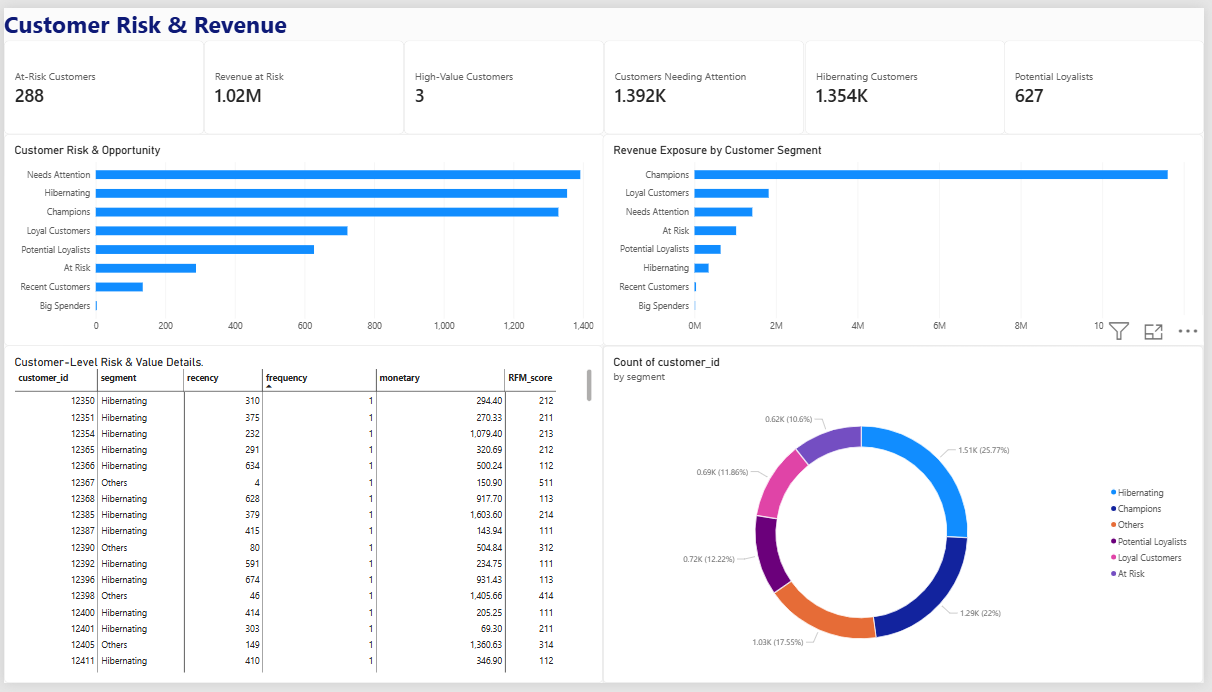

What the dashboard file says about the page in this screenshot:
{"tool":"powerbi","page":{"name":"Customer Risk & Revenue","canvas":[1920,1080],"ordinal":2},"visuals":[{"type":"textbox","box":[0,0,1919.3,52.2],"z":0},{"type":"cardVisual","fields":{"Data":["Count(ecommerce_analytics rfm_customer_dashboard.customer_id)"]},"box":[0,52.2,320,150],"z":1000},{"type":"cardVisual","fields":{"Data":["Sum(ecommerce_analytics rfm_customer_dashboard.monetary)"]},"box":[320.3,52.2,320,150],"z":2000},{"type":"cardVisual","fields":{"Data":["Count(ecommerce_analytics rfm_customer_dashboard.customer_id)"]},"box":[640.5,52.2,320,150],"z":3000},{"type":"cardVisual","fields":{"Data":["Count(ecommerce_analytics rfm_customer_dashboard.customer_id)"]},"box":[960.8,52.2,320,150],"z":4000},{"type":"cardVisual","fields":{"Data":["Count(ecommerce_analytics rfm_customer_dashboard.customer_id)"]},"box":[1281,52.2,320,150],"z":5000},{"type":"cardVisual","fields":{"Data":["Count(ecommerce_analytics rfm_customer_dashboard.customer_id)"]},"box":[1599,52.2,320,150],"z":6000},{"type":"clusteredBarChart","title":"Customer Risk & Opportunity","fields":{"Category":["ecommerce_analytics rfm_customer_dashboard.customer_segment"],"Y":["Count(ecommerce_analytics rfm_customer_dashboard.customer_id)"]},"box":[0,202.1,960.8,338.4],"z":7000},{"type":"clusteredBarChart","title":"Revenue Exposure by Customer Segment","fields":{"Category":["ecommerce_analytics rfm_customer_dashboard.customer_segment"],"Y":["Sum(cleaned_sales.revenue)"]},"box":[958.5,202.1,961,338],"z":8000},{"type":"tableEx","title":"Customer-Level Risk & Value Details.","fields":{"Values":["customer_rfm.customer_id","customer_rfm.segment","customer_rfm.recency","customer_rfm.frequency","customer_rfm.monetary","customer_rfm.RFM_score"]},"box":[0,540,958,540],"z":9000},{"type":"donutChart","fields":{"Category":["customer_rfm.segment"],"Y":["Count(customer_rfm.customer_id)"]},"box":[958,540,961,540],"z":10000}]}

Visuals, with their boxes in screenshot pixels (x1, y1, x2, y2), scaled from the page's 1920x1080 canvas onto the 1212x692 screenshot:
textbox: (left=0, top=0, right=1211, bottom=33)
cardVisual - Count(ecommerce_analytics rfm_customer_dashboard.customer_id): (left=0, top=33, right=202, bottom=130)
cardVisual - Sum(ecommerce_analytics rfm_customer_dashboard.monetary): (left=202, top=33, right=404, bottom=130)
cardVisual - Count(ecommerce_analytics rfm_customer_dashboard.customer_id): (left=404, top=33, right=606, bottom=130)
cardVisual - Count(ecommerce_analytics rfm_customer_dashboard.customer_id): (left=607, top=33, right=809, bottom=130)
cardVisual - Count(ecommerce_analytics rfm_customer_dashboard.customer_id): (left=809, top=33, right=1011, bottom=130)
cardVisual - Count(ecommerce_analytics rfm_customer_dashboard.customer_id): (left=1009, top=33, right=1211, bottom=130)
"Customer Risk & Opportunity" clusteredBarChart: (left=0, top=129, right=607, bottom=346)
"Revenue Exposure by Customer Segment" clusteredBarChart: (left=605, top=129, right=1211, bottom=346)
"Customer-Level Risk & Value Details." tableEx: (left=0, top=346, right=605, bottom=691)
donutChart - customer_rfm.segment x Count(customer_rfm.customer_id): (left=605, top=346, right=1211, bottom=691)
